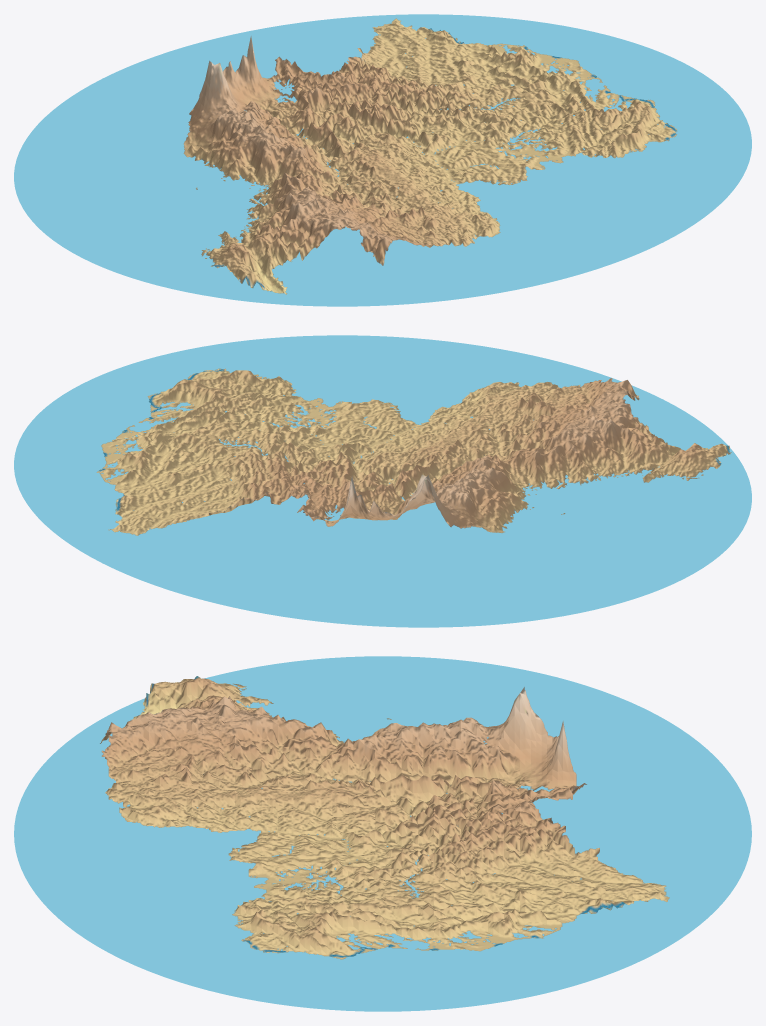
File: RWA-terrain.glb
The picture shows the model from 3 angles, top to bottom: view 1: azimuth 30°, elevation 25°; view 2: azimuth 150°, elevation 25°; view 3: azimuth 270°, elevation 25°; orthographic projection. The views are drawn at different scales.
Visible parts, largest first — view 1: Relevo com hidrografia; view 2: Relevo com hidrografia; view 3: Relevo com hidrografia.
Part boxes in pixels (x1,y1,x2,y2): Relevo com hidrografia: [14, 14, 751, 306]; Relevo com hidrografia: [14, 335, 751, 627]; Relevo com hidrografia: [14, 656, 751, 1011].
Size of the model in its own units: 2.08 by 0.2452 by 1.83.
Materials: 2 (1 with a texture image).
